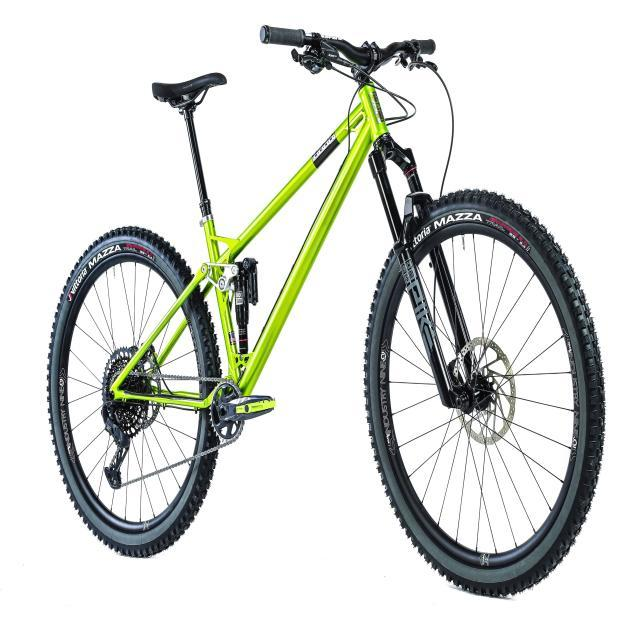bike: (45, 24, 606, 599)
